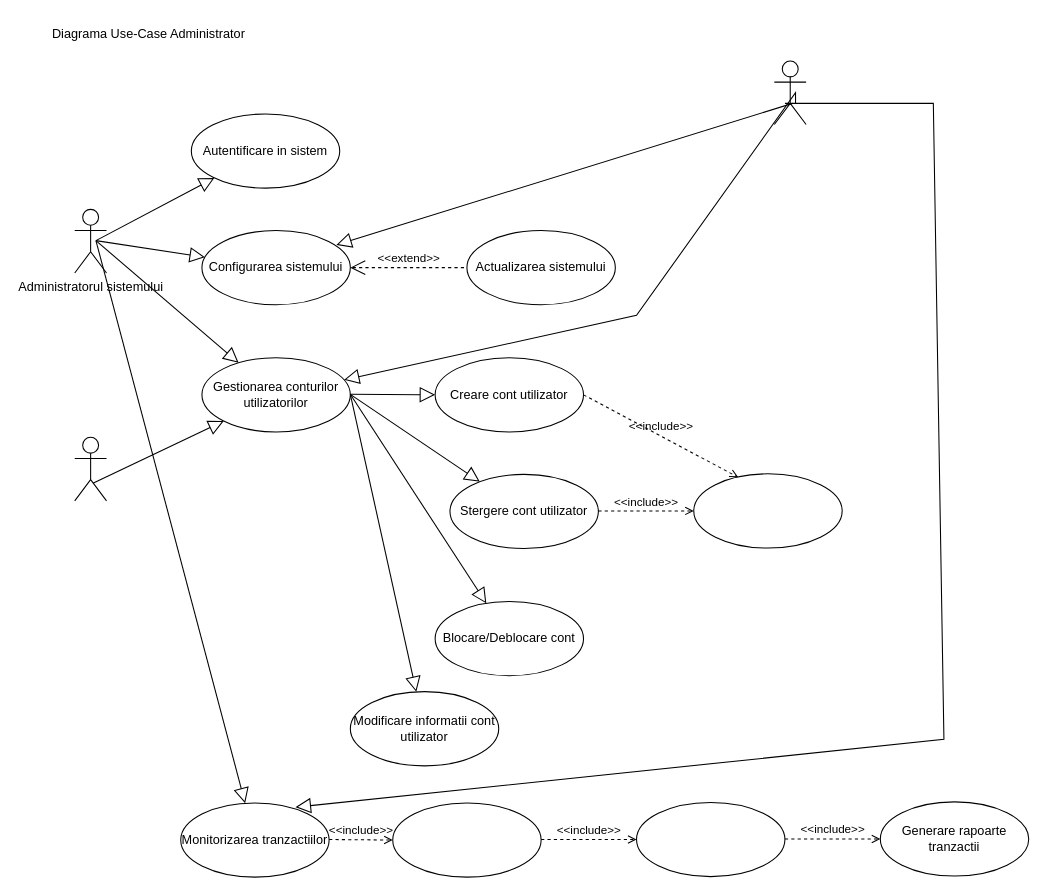
This 1047x896 diagram has some shape labels left out. Here are the shapes that lost their labels. From the top down, the centre of each, then its label:
At [789,92]: "Sistemul bancar".
At [90,468]: "Utilizator".
At [767,510]: "Modficarea bazei de date".
At [466,839]: "Vizualizare tranzactii".
At [710,839]: "Analizare tranzactii".
